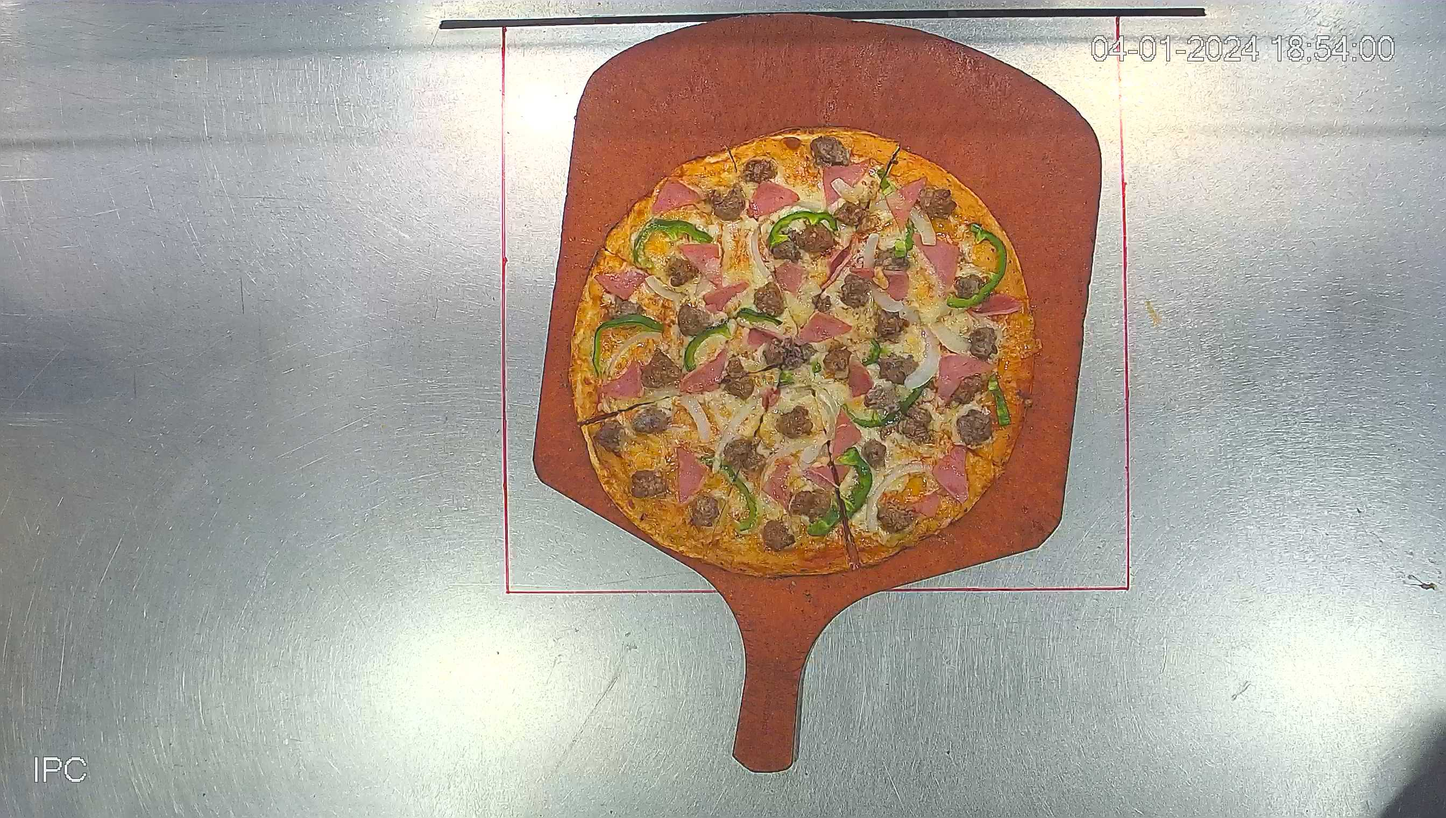hawaiian: (568, 126, 1041, 579)
